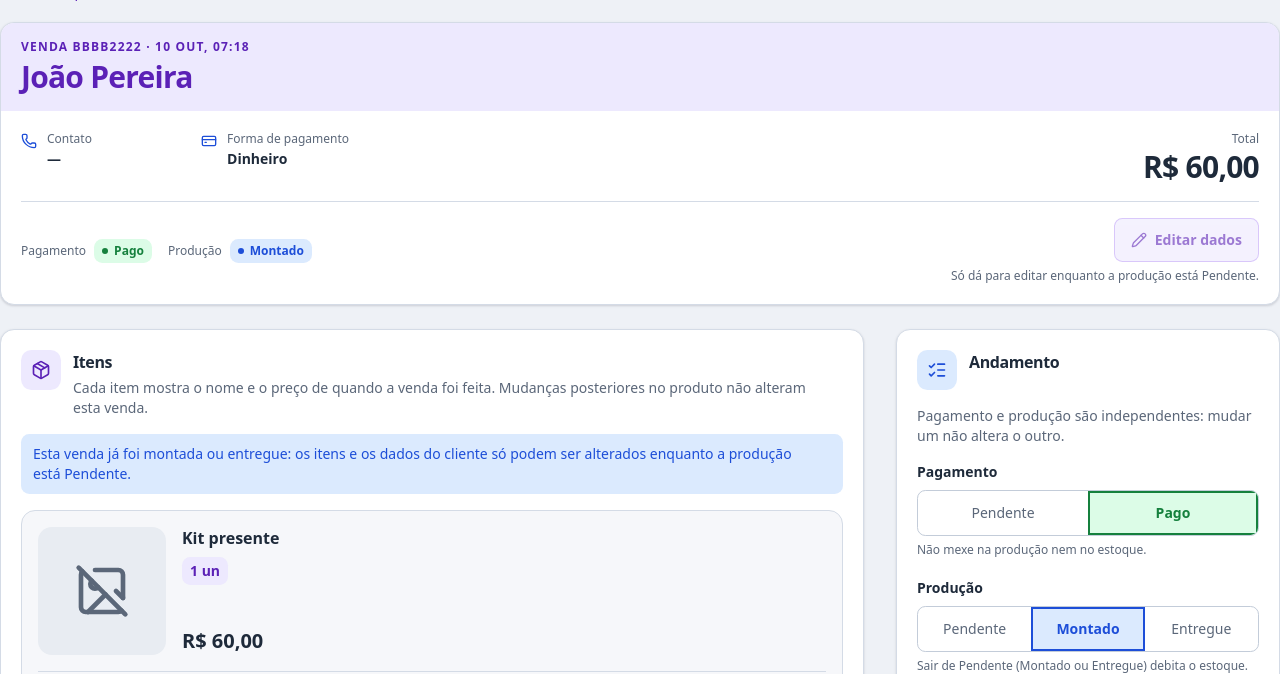
Test: the two states of a sale › asks nothing when the move does not touch the stock: assembled to delivered
The image size is (1280, 674).
expect the heading "João Pereira" is shown: met, box [21,56,193,97]
Click the radio button labelled "Entregue": [1201, 629] box [1145,607,1258,651]
(page scrolled)
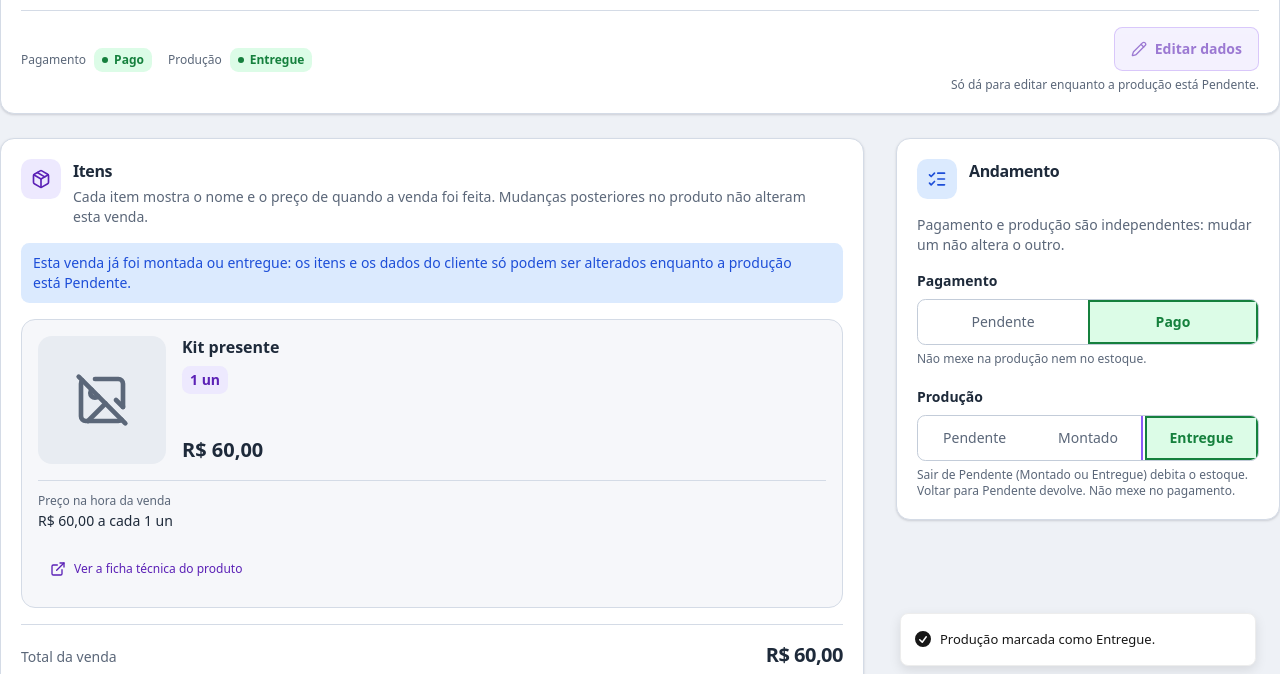
expect the text "Produção marcada como Entregue." is shown: met, box [940,630,1155,649]
